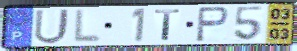1: (130, 7, 146, 44)
5: (232, 5, 267, 43)
L: (71, 8, 103, 44)
P: (194, 6, 231, 44)
T: (153, 8, 182, 42)
U: (32, 7, 72, 45)
